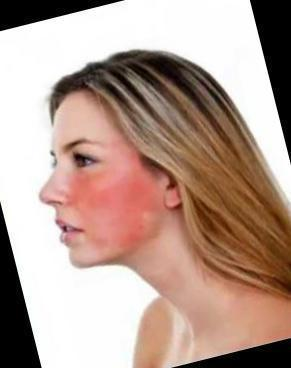Drunk: (42, 95, 165, 270)
